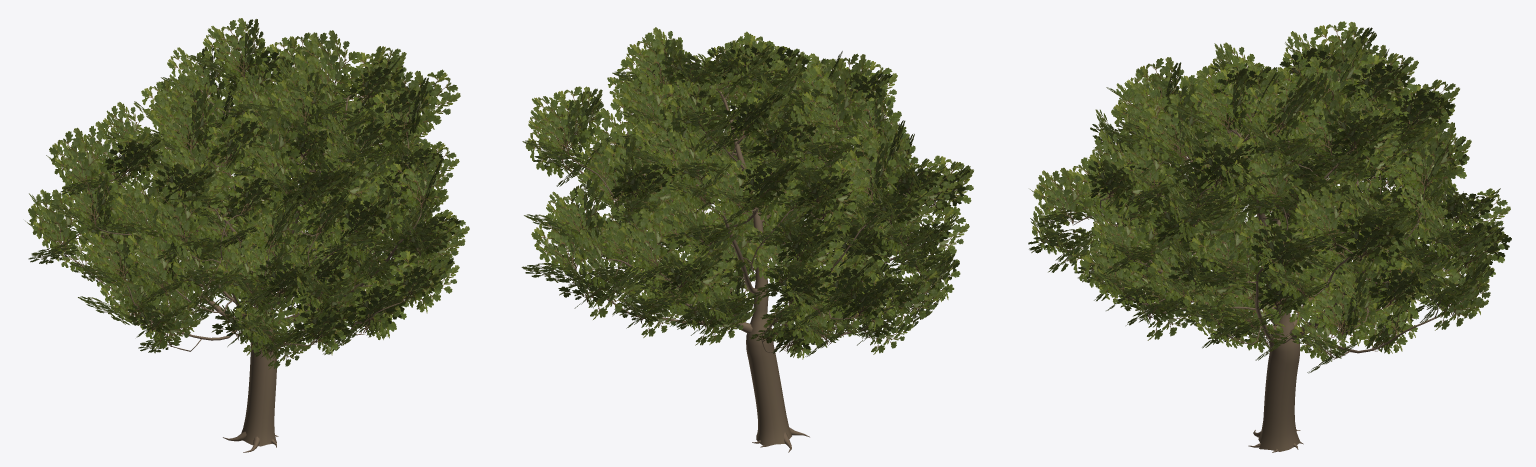
The model's file is corealm_oak_4.glb.
3 views of the same model, side by side, from view 1: azimuth 30°, elevation 25°; view 2: azimuth 150°, elevation 25°; view 3: azimuth 270°, elevation 25° (orthographic). The views are drawn at different scales.
Parts seen in each view (by area): view 1: corealm_oak_4; view 2: corealm_oak_4; view 3: corealm_oak_4.
Boxes of the visible parts, x1,y1,x2,y2 form: corealm_oak_4: (25,18,469,452); corealm_oak_4: (521,27,973,452); corealm_oak_4: (1028,21,1511,452).
Size of the model in its own units: 8.04 by 6.91 by 7.56.
2 materials, 1 textured.
